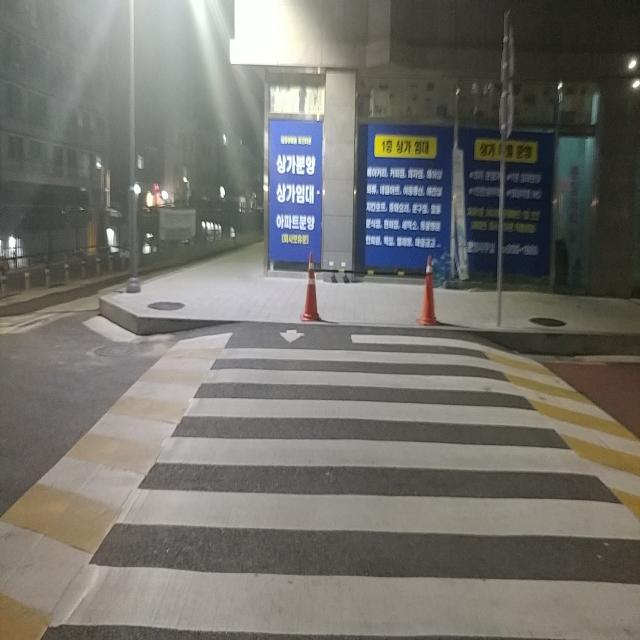횡단보도: (46, 327, 640, 639)
